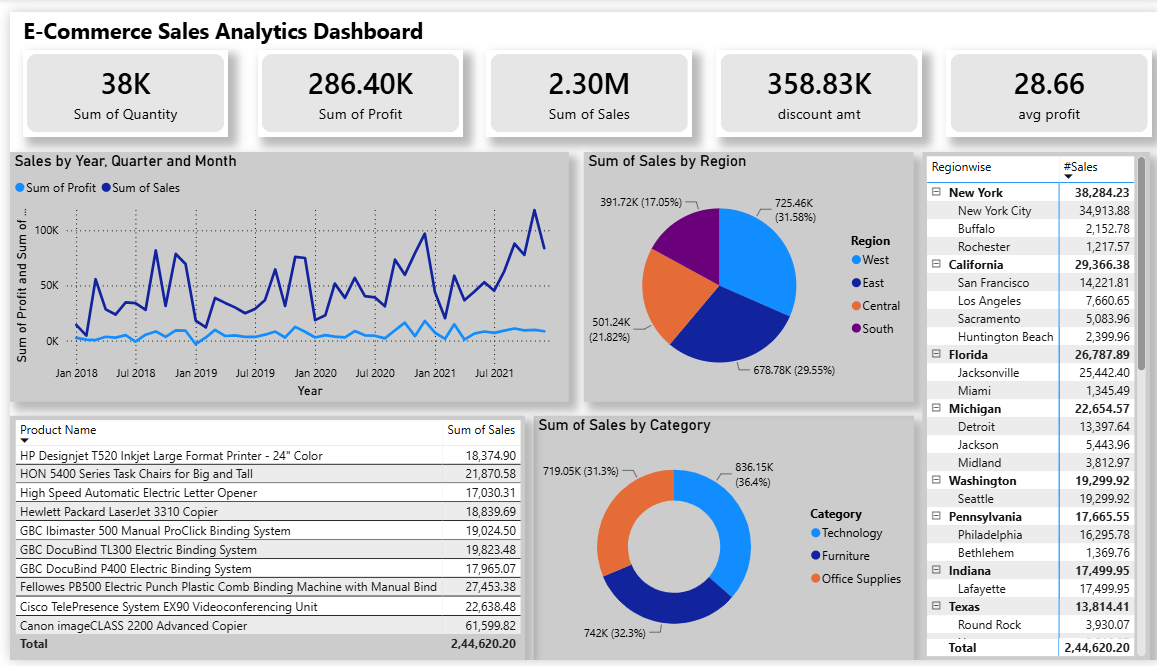

The page's visual inventory and layout, read from the dashboard file:
{"tool":"powerbi","page":{"name":"Page 1","canvas":[1280,720],"ordinal":0},"visuals":[{"type":"cardVisual","fields":{"Data":["Sum(E-Commerce.Quantity)"]},"box":[13.9,41.7,229.1,97.2],"z":0},{"type":"cardVisual","fields":{"Data":["measure_.avg profit"]},"box":[1015.7,41.4,242.9,97.1],"z":1000},{"type":"cardVisual","fields":{"Data":["measure_.discount amt"]},"box":[752.6,41.7,240.2,97.2],"z":2000},{"type":"cardVisual","fields":{"Data":["Sum(E-Commerce.Profit)"]},"box":[261.1,41.7,216.7,97.2],"z":3000},{"type":"cardVisual","fields":{"Data":["Sum(E-Commerce.Sales)"]},"box":[504.1,41.7,237.4,97.2],"z":4000},{"type":"lineChart","fields":{"Y":["Sum(E-Commerce.Profit)","Sum(E-Commerce.Sales)"],"Category":["E-Commerce.Order Date.Variation.Date Hierarchy.Year","E-Commerce.Order Date.Variation.Date Hierarchy.Quarter","E-Commerce.Order Date.Variation.Date Hierarchy.Month"]},"box":[14,156,712,234],"z":5000},{"type":"donutChart","fields":{"Category":["E-Commerce.Category"],"Y":["Sum(E-Commerce.Sales)"]},"box":[623,400.7,323.8,319.7],"z":6000},{"type":"tableEx","fields":{"Values":["E-Commerce.Product Name","Sum(E-Commerce.Sales)"]},"box":[0,400.7,602.4,319.7],"z":7000},{"type":"pieChart","fields":{"Y":["Sum(E-Commerce.Sales)"],"Category":["E-Commerce.Region"]},"box":[752.6,155.5,506.8,234.7],"z":8000},{"type":"pivotTable","fields":{"Rows":["E-Commerce.State","E-Commerce.City"],"Values":["Sum(E-Commerce.Sales)"]},"box":[966,400.7,293.7,319.7],"z":9000},{"type":"textbox","box":[9.7,0,592.9,41.7],"z":10000}]}

Visuals, with their boxes in screenshot pixels (x1, y1, x2, y2), scaled from the page's 1280x720 canvas onto the 1157x666 screenshot:
cardVisual - Sum(E-Commerce.Quantity): 13 39 220 128
cardVisual - measure_.avg profit: 918 38 1138 128
cardVisual - measure_.discount amt: 680 39 897 128
cardVisual - Sum(E-Commerce.Profit): 236 39 432 128
cardVisual - Sum(E-Commerce.Sales): 456 39 670 128
lineChart - Sum(E-Commerce.Profit) x Sum(E-Commerce.Sales): 13 144 656 361
donutChart - E-Commerce.Category x Sum(E-Commerce.Sales): 563 371 856 665
tableEx - E-Commerce.Product Name x Sum(E-Commerce.Sales): 0 371 545 665
pieChart - Sum(E-Commerce.Sales) x E-Commerce.Region: 680 144 1138 361
pivotTable - E-Commerce.State x E-Commerce.City: 873 371 1139 665
textbox: 9 0 545 39
